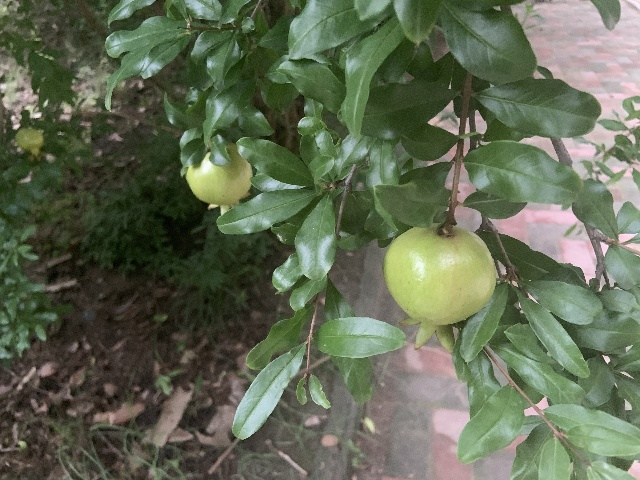mid-growth: (383, 224, 496, 349), (185, 142, 252, 213), (15, 127, 46, 161)
